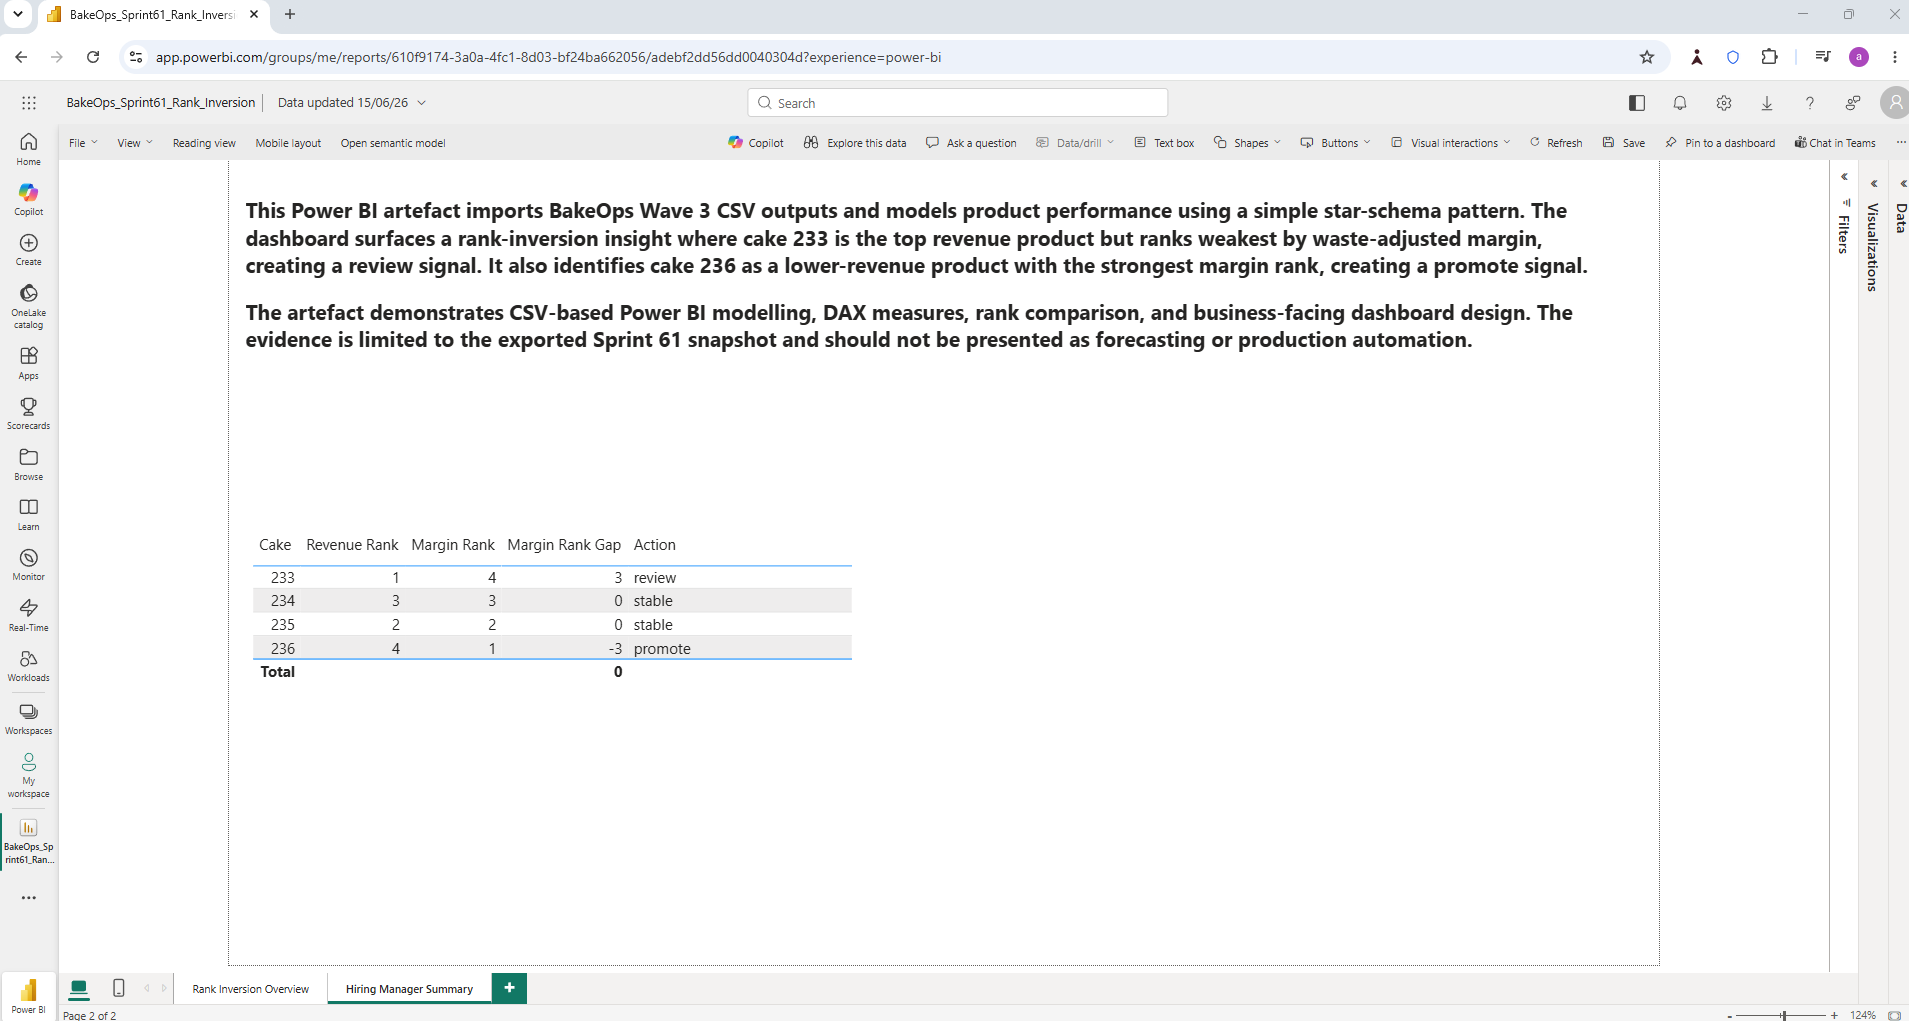

What the dashboard file says about the page in this screenshot:
{"tool":"powerbi","page":{"name":"Hiring Manager Summary","canvas":[1280,720],"ordinal":1},"visuals":[{"type":"textbox","box":[16,0,1200,192],"z":0},{"type":"tableEx","fields":{"Values":["Fact_ProductPerformanceSnapshot.cake_id","Fact_ProductPerformanceSnapshot.revenue_rank","Fact_ProductPerformanceSnapshot.waste_adjusted_margin_rank","Sum(Fact_ProductPerformanceSnapshot.Margin Rank Gap)","Fact_ProductPerformanceSnapshot.action_flag"]},"box":[16,304,1200,176],"z":1000}]}

Visuals, with their boxes on the page's 1280x720 design canvas (x1, y1, x2, y2). These are canvas units, not pixel positions in the 1909x1021 screenshot, which may show the page scaled, cropped or inside an application window:
textbox: (left=16, top=0, right=1216, bottom=192)
tableEx - Fact_ProductPerformanceSnapshot.cake_id x Fact_ProductPerformanceSnapshot.revenue_rank: (left=16, top=304, right=1216, bottom=480)
